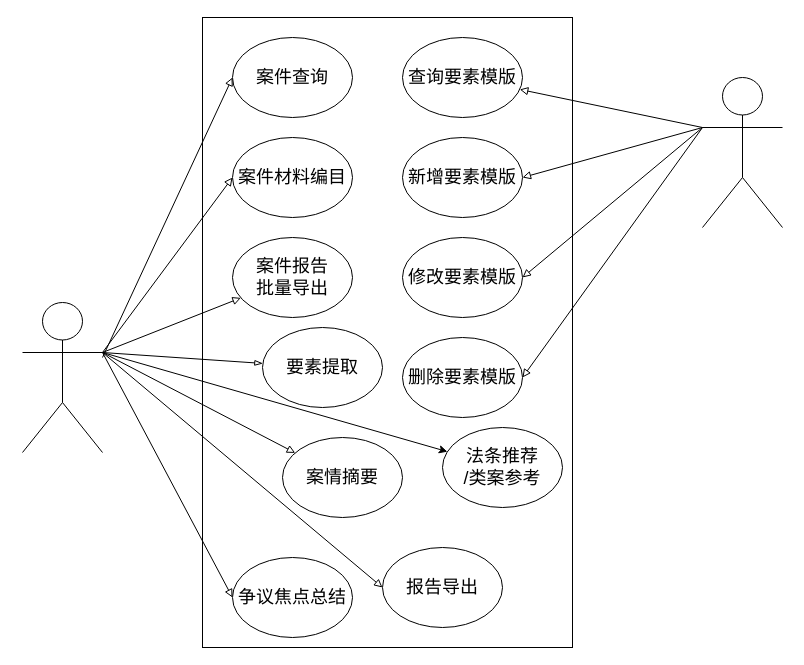
Some shapes in this 804 by 665 pixel diagram are drawn without their labels. Here are the shapes that lost their labels. From the top down, the box of each, then its label:
(702, 76, 782, 228): 系统管理员
(22, 302, 102, 452): 普通调解员
